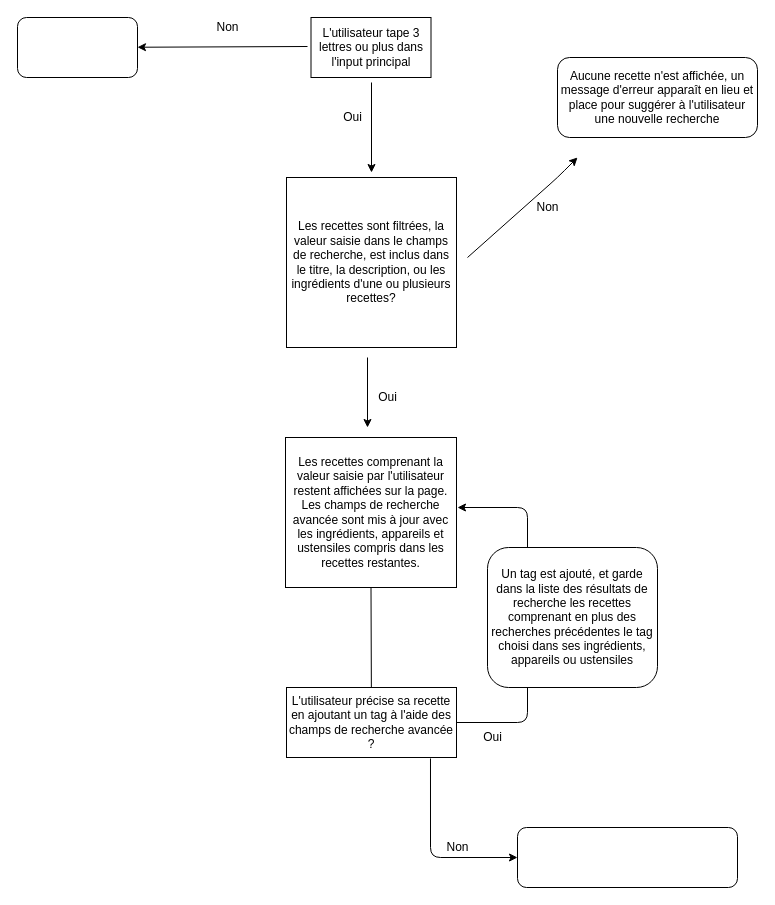
Some shapes in this 775 by 905 pixel diagram are drawn without their labels. Each missing label, with the centre of its shape:
"L'utilisateur choisit sa recette parmis celle ou celles restantes" goes at point (627, 857).
"La totalité des recettes sont affichées" goes at point (77, 47).
